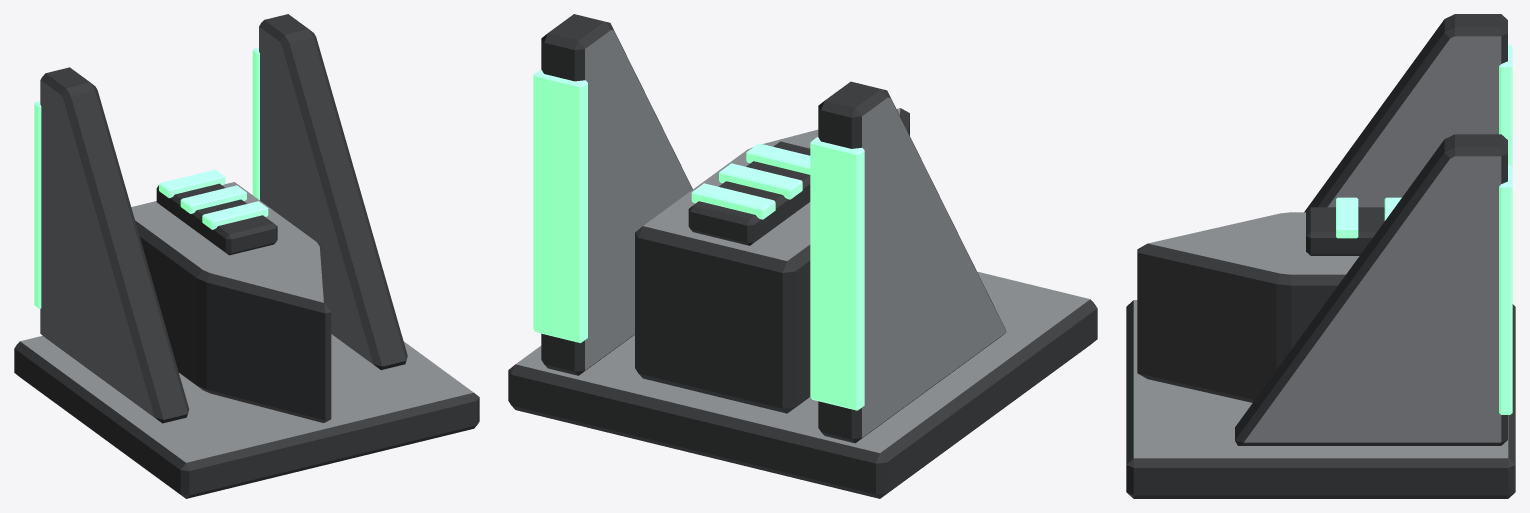
File: R4X_MobilityBooster_LOD1.fbx
3 renders of one model, left to right at view 1: azimuth 30°, elevation 25°; view 2: azimuth 150°, elevation 25°; view 3: azimuth 270°, elevation 25°, orthographic. The views are drawn at different scales.
Visible parts, largest first — view 1: R4X_MobilityBooster_LOD1; view 2: R4X_MobilityBooster_LOD1; view 3: R4X_MobilityBooster_LOD1.
Boxes of the visible parts, x1,y1,x2,y2 form: R4X_MobilityBooster_LOD1: [14, 14, 479, 498]; R4X_MobilityBooster_LOD1: [508, 14, 1097, 498]; R4X_MobilityBooster_LOD1: [1126, 14, 1515, 498].
Bounding box in the file's own units: 0.52 × 0.5 × 0.52.
